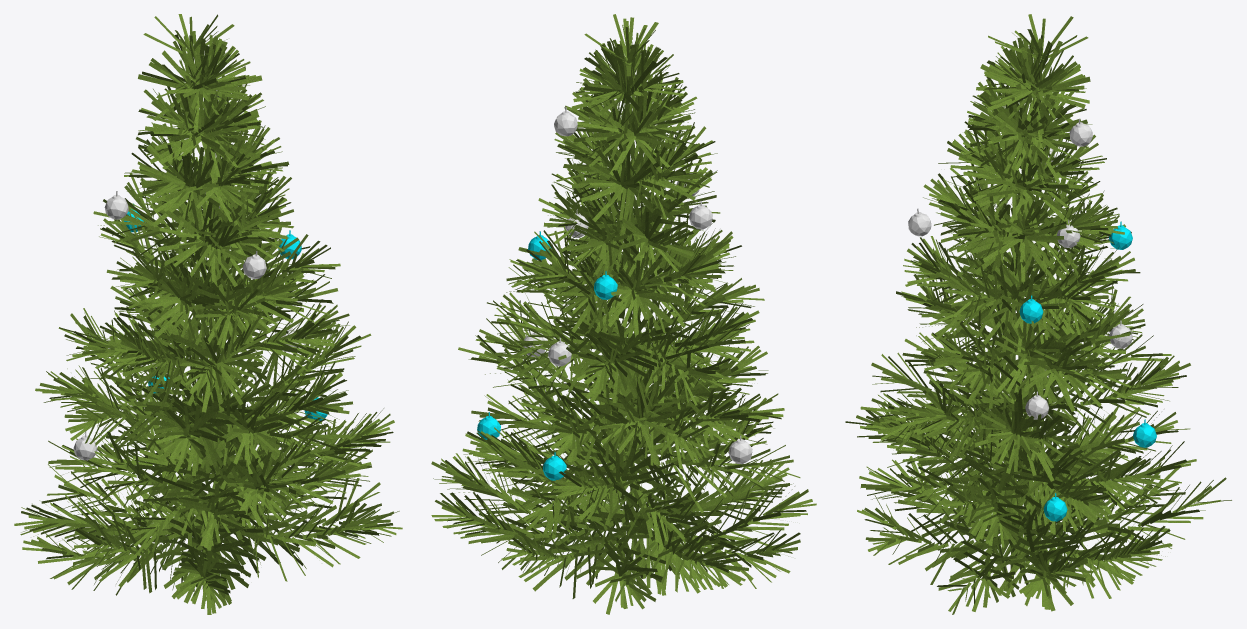
File: christmasTree.fbx
The picture shows the model from 3 angles, left to right: view 1: azimuth 30°, elevation 25°; view 2: azimuth 150°, elevation 25°; view 3: azimuth 270°, elevation 25°; orthographic projection.
Visible parts, largest first — view 1: leaves.001, Sphere.004; view 2: leaves.001, Sphere.004, Sphere.005, Sphere.003, Sphere.001, Sphere.002; view 3: leaves.001, Sphere.002, Sphere.001, Sphere.003, Sphere.004.
Part boxes in pixels (x1,y1,x2,y2): leaves.001: (14,14,402,614); Sphere.004: (104,191,301,352); leaves.001: (431,14,816,614); Sphere.004: (523,200,712,357); Sphere.005: (548,337,752,464); Sphere.003: (543,271,617,480); Sphere.001: (477,231,551,439); Sphere.002: (554,107,699,195); leaves.001: (845,14,1231,614); Sphere.002: (908,119,1092,236); Sphere.001: (1019,295,1067,521); Sphere.003: (1109,221,1156,447); Sphere.004: (1025,147,1080,419).
Size of the model in its own units: 133 by 201 by 128.
